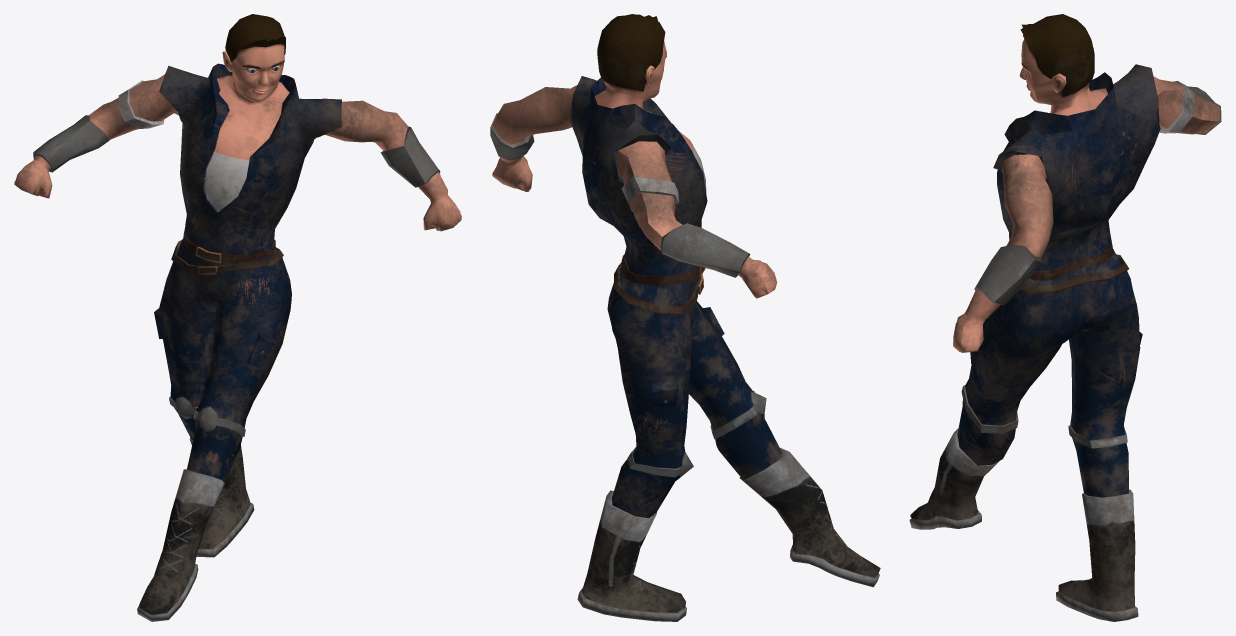
The model's file is Anim_ataque_f2_jugador.0034.obj.
The picture shows the model from 3 angles, left to right: view 1: azimuth 30°, elevation 25°; view 2: azimuth 150°, elevation 25°; view 3: azimuth 270°, elevation 25°; orthographic projection. The views are drawn at different scales.
Parts seen in each view (by area): view 1: polySurface1; view 2: polySurface1; view 3: polySurface1.
Boxes of the visible parts, bbox=[...] form: polySurface1: bbox=[14, 14, 461, 621]; polySurface1: bbox=[490, 14, 880, 621]; polySurface1: bbox=[909, 14, 1221, 621].
Size of the model in its own units: 6.57 by 9.53 by 4.43.
